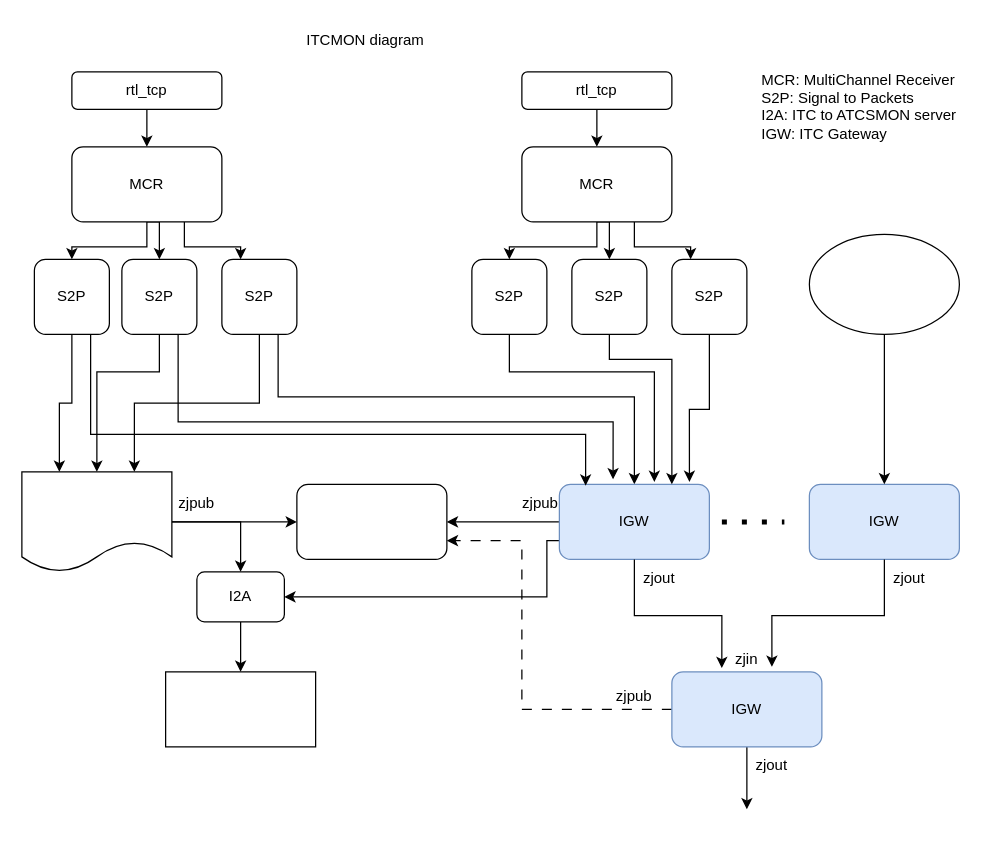
The diagram is 981 pixels wide and 841 high, and some of its shapes have lost their labels. The box of each missing label's shape, as (x1, y1, x2, y2) in pixels:
ATCSMON: (164, 671, 316, 747)
ITC-Watch, other Apps: (296, 483, 447, 559)
ITCMON: (21, 471, 172, 572)
more MCR/S2P receivers: (808, 233, 959, 334)
